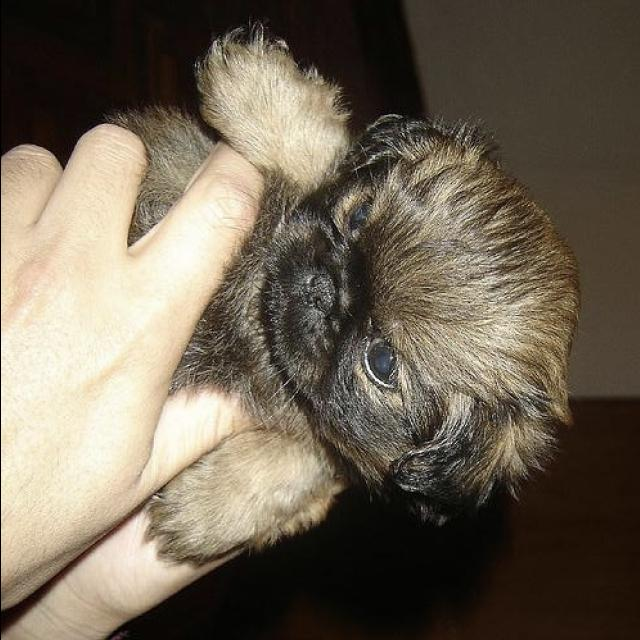pekinese: (98, 17, 581, 566)
